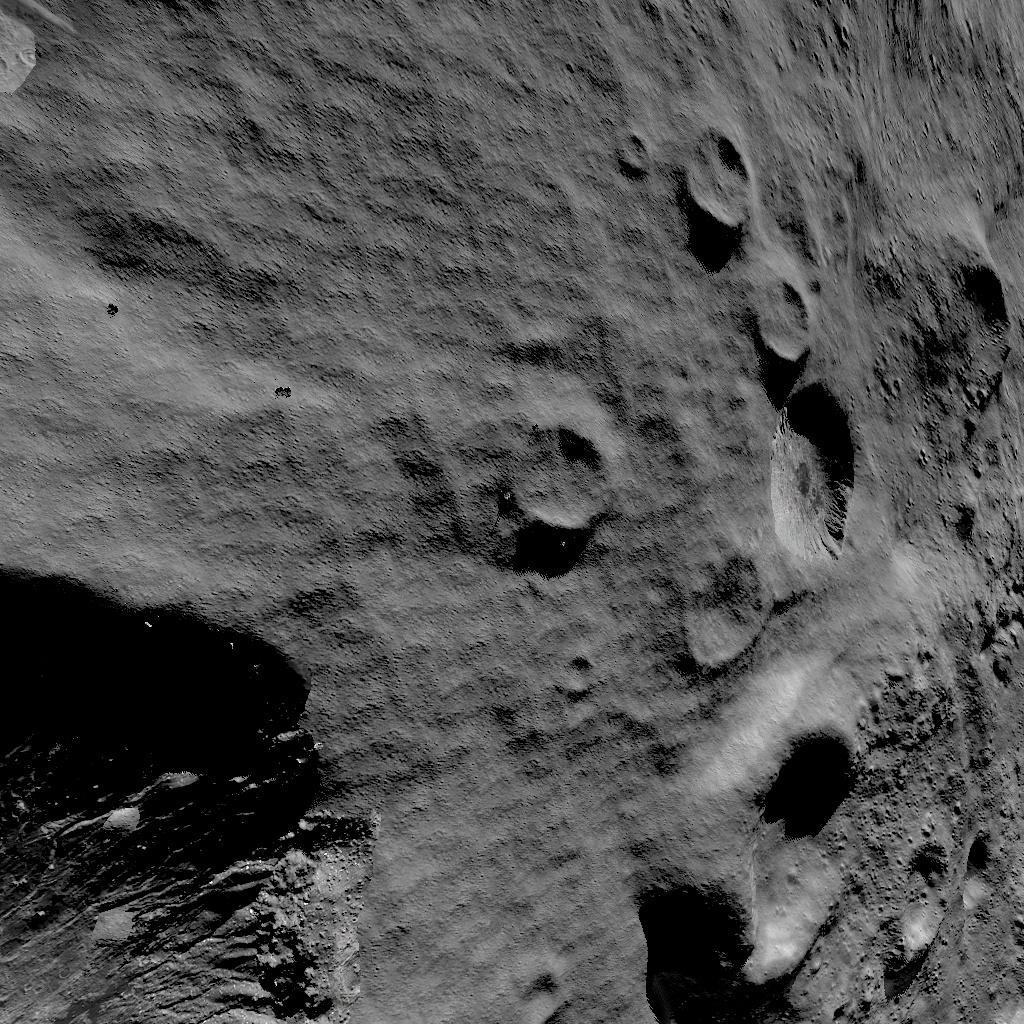Crater: (0, 556, 359, 1024), (639, 698, 836, 1002), (677, 372, 866, 657), (877, 806, 975, 962), (496, 430, 628, 540), (928, 260, 1007, 419), (667, 134, 760, 248), (742, 277, 815, 361), (510, 962, 581, 1024), (550, 646, 604, 698)
Plan surface: (0, 0, 453, 537), (769, 2, 1024, 242)
